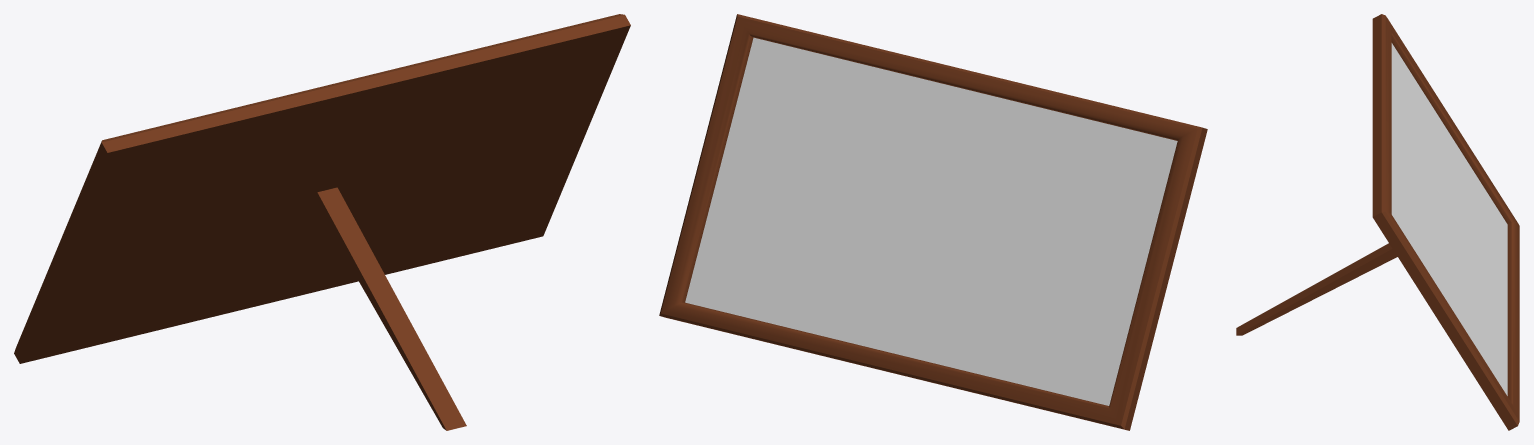
The model's file is çerçeve.fbx.
3 views of the same model, side by side, from view 1: azimuth 30°, elevation 25°; view 2: azimuth 150°, elevation 25°; view 3: azimuth 270°, elevation 25° (orthographic). The views are drawn at different scales.
Parts seen in each view (by area): view 1: Cube.001; view 2: Cube.002, Cube.001; view 3: Cube.002, Cube.001.
Boxes of the visible parts, x1,y1,x2,y2 form: Cube.001: (14, 14, 630, 430); Cube.002: (685, 37, 1177, 405); Cube.001: (659, 14, 1207, 430); Cube.002: (1391, 43, 1507, 395); Cube.001: (1236, 14, 1519, 430).
Size of the model in its own units: 147 by 125 by 244.
